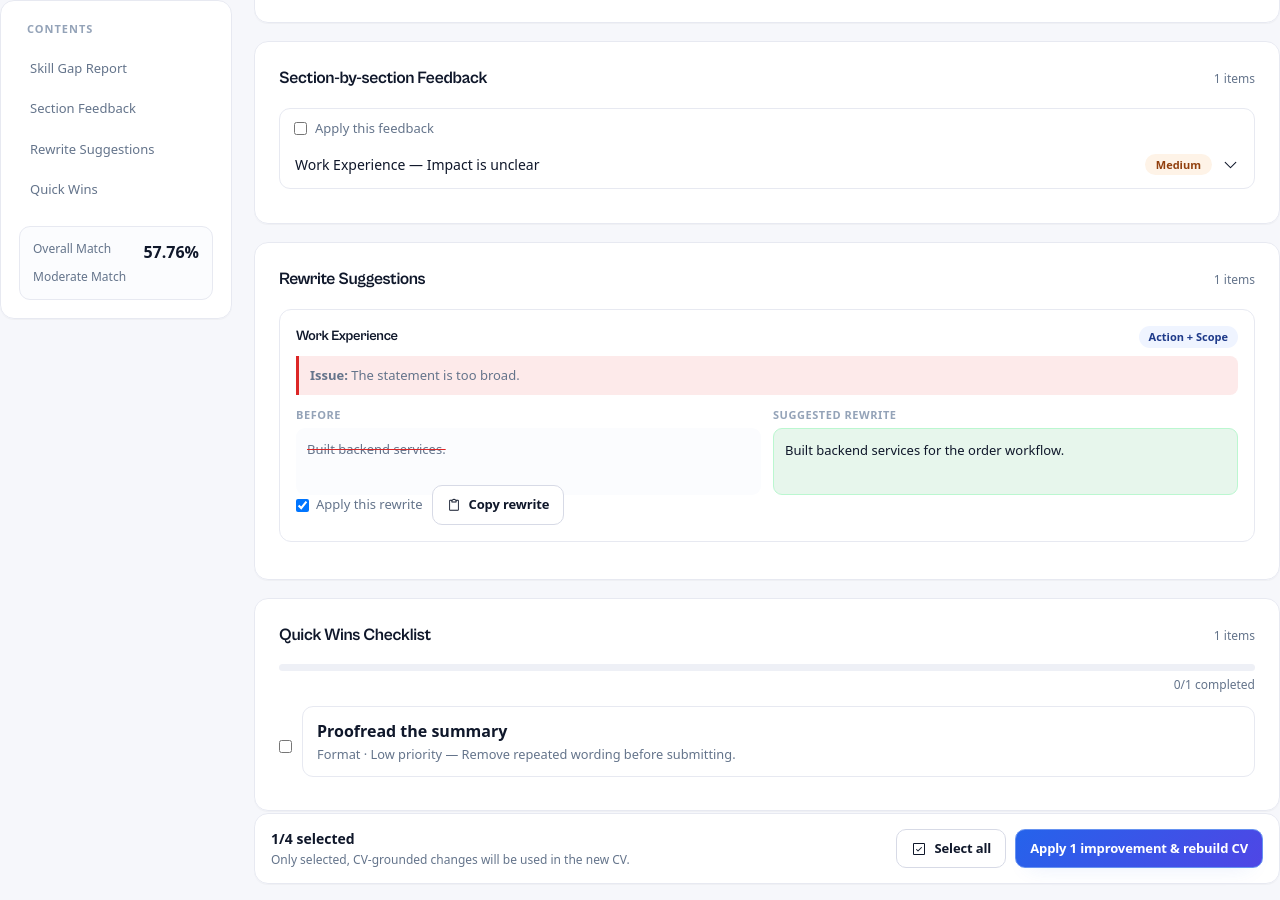
Scenario: ImprovementScreen acceptance states › updates Quick Wins state and progress immediately
The image size is (1280, 900).
(page scrolled)
Expected: the text "0/1 completed" is shown, x1=1174 y1=676 x2=1255 y2=693
Step 1. Click the button "Proofread the summary" → (412, 731), box x1=302 y1=706 x2=1255 y2=777
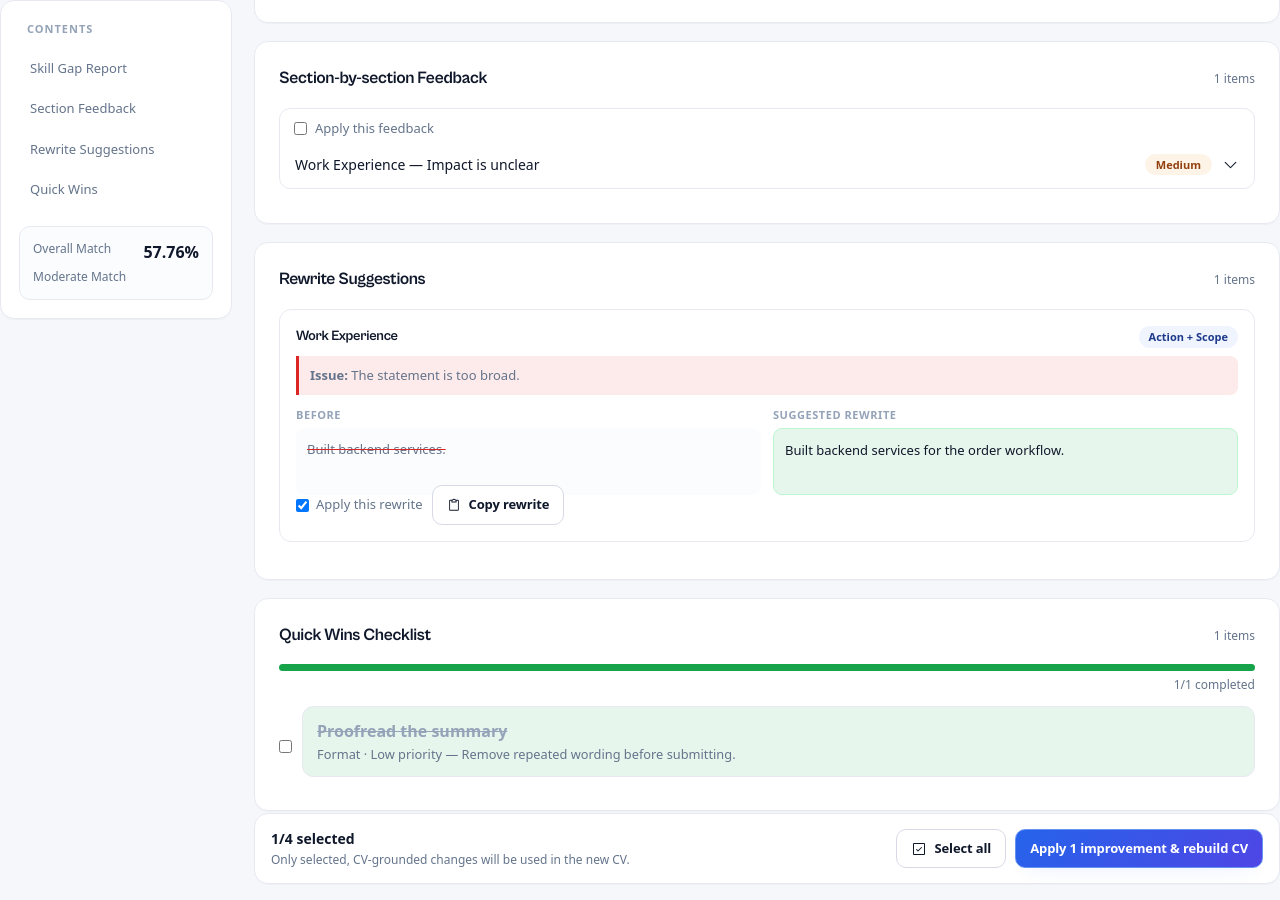
Expected: the text "1/1 completed" is shown, x1=1174 y1=676 x2=1255 y2=693
